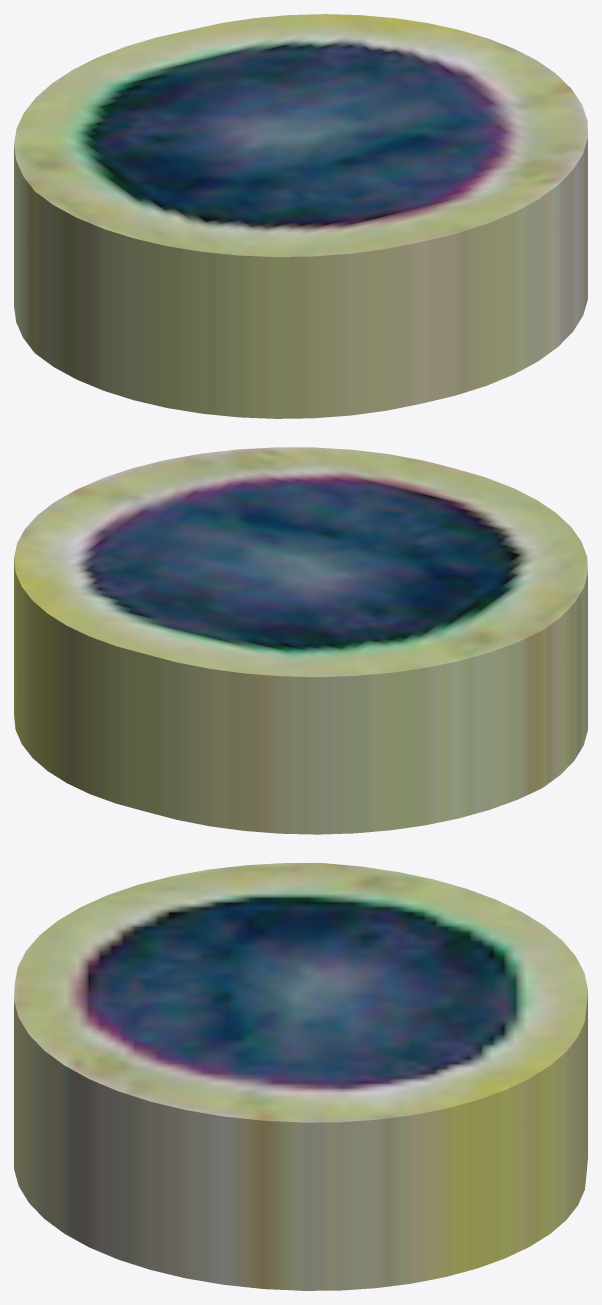
File: Muro apocalipsis 2.dae
The picture shows the model from 3 angles, top to bottom: view 1: azimuth 30°, elevation 25°; view 2: azimuth 150°, elevation 25°; view 3: azimuth 270°, elevation 25°; orthographic projection. The views are drawn at different scales.
Visible parts, largest first — view 1: SketchUp (×2); view 2: SketchUp (×2); view 3: SketchUp (×2).
Boxes of the visible parts, x1,y1,x2,y2 form: SketchUp (×2): (14, 14, 587, 418); SketchUp (×2): (14, 447, 587, 834); SketchUp (×2): (14, 863, 587, 1290).
Size of the model in its own units: 8.06 by 7.53 by 2.44.
Materials: 1 (1 with a texture image).
